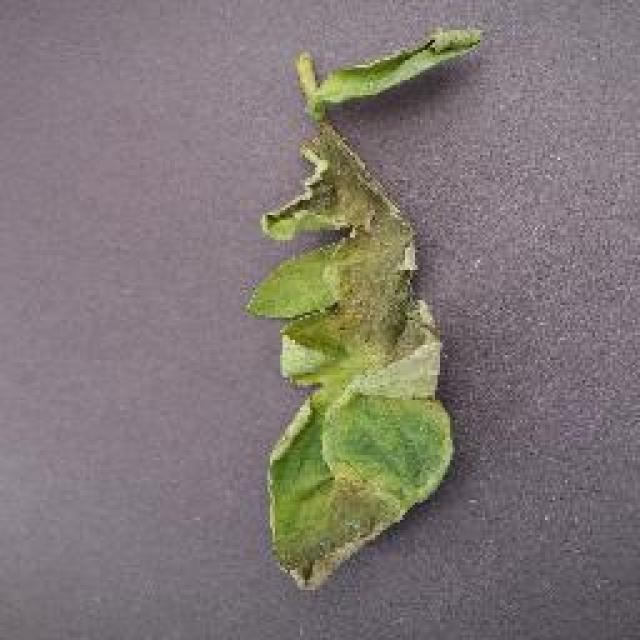Tomato_Late_Blight: (235, 16, 492, 590)
